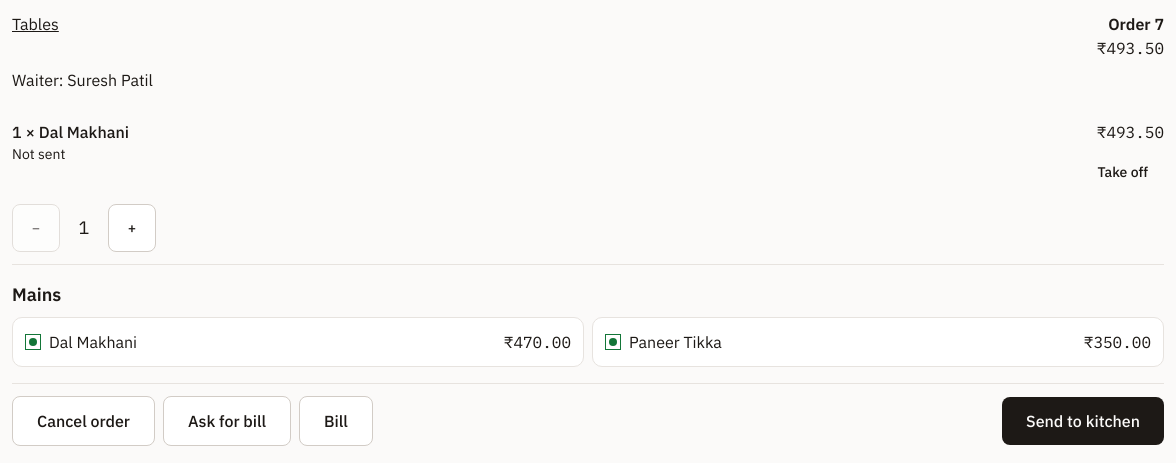
before the server answers › shows the new count at once while it is saved
Click the button named "One more Dal Makhani" at (132, 228), box [108,204,156,252]
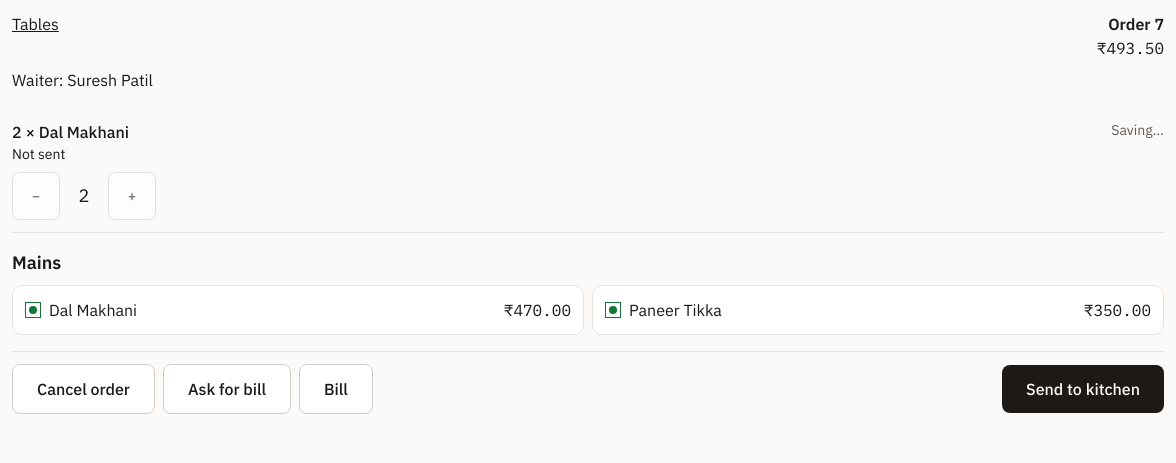
Check: the text "2 × Dal Makhani" is shown, box [12,120,129,144]
Check: the text "Saving…" is shown, box [1111,120,1164,140]
